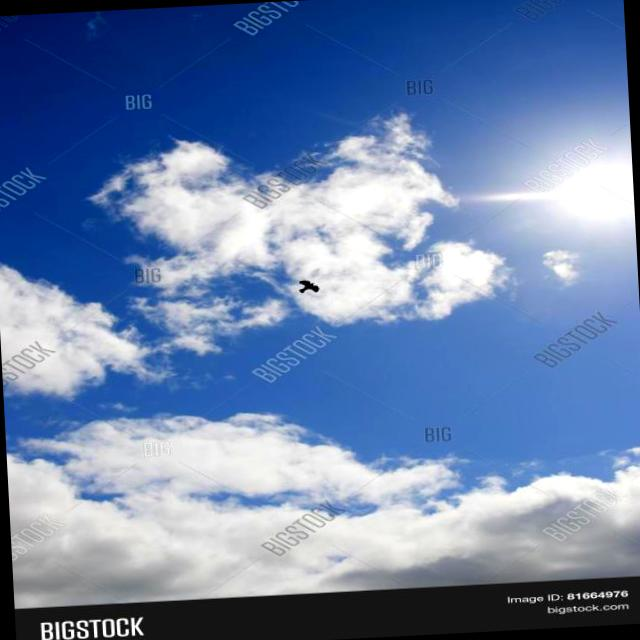bird: (288, 271, 320, 298)
